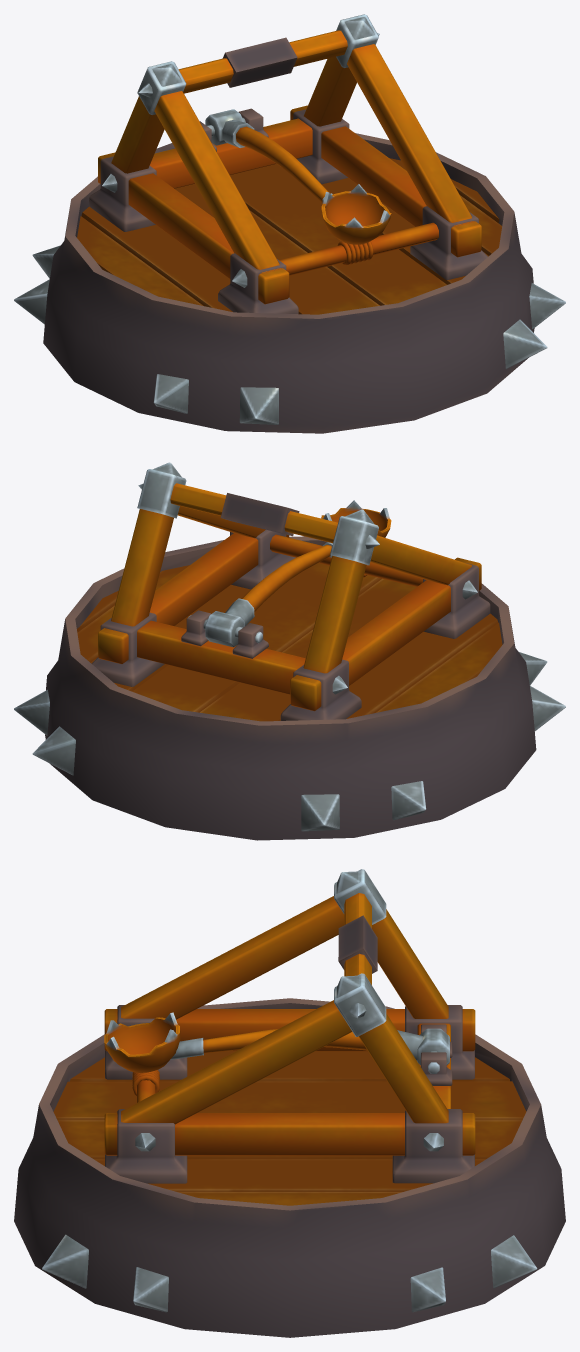
Rendered from katapulta.fbx.
3 renders of one model, top to bottom at view 1: azimuth 30°, elevation 25°; view 2: azimuth 150°, elevation 25°; view 3: azimuth 270°, elevation 25°, orthographic. The views are drawn at different scales.
Visible parts, largest first — view 1: Cube.009_Baked, Cube.004_Baked, Cylinder.001_Baked; view 2: Cube.009_Baked, Cube.004_Baked, Cylinder.001_Baked; view 3: Cube.009_Baked, Cube.004_Baked, Cylinder.001_Baked.
Part boxes in pixels (left/top/right/bottom): Cube.009_Baked: left=77, top=14, right=502, bottom=314; Cube.004_Baked: left=14, top=133, right=565, bottom=433; Cylinder.001_Baked: left=222, top=119, right=391, bottom=244; Cube.009_Baked: left=77, top=462, right=502, bottom=721; Cube.004_Baked: left=14, top=536, right=565, bottom=840; Cylinder.001_Baked: left=225, top=500, right=391, bottom=626; Cube.009_Baked: left=53, top=869, right=526, bottom=1205; Cube.004_Baked: left=14, top=998, right=565, bottom=1337; Cylinder.001_Baked: left=104, top=1012, right=422, bottom=1072.
Bounding box in the file's own units: 184 × 109 × 184.
Materials: 1 (1 with a texture image).
